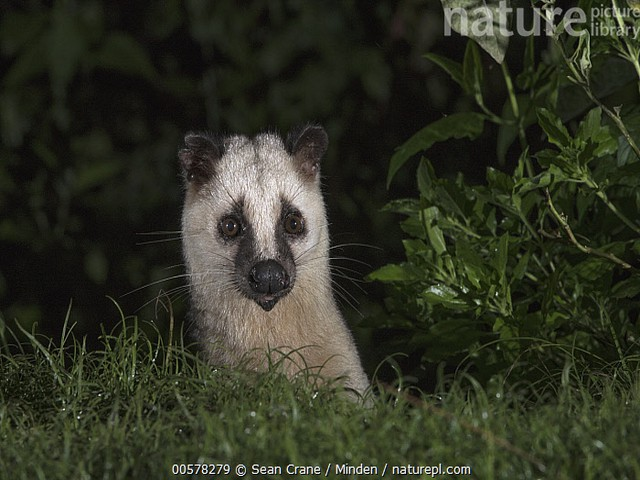civet: (173, 118, 369, 410)
